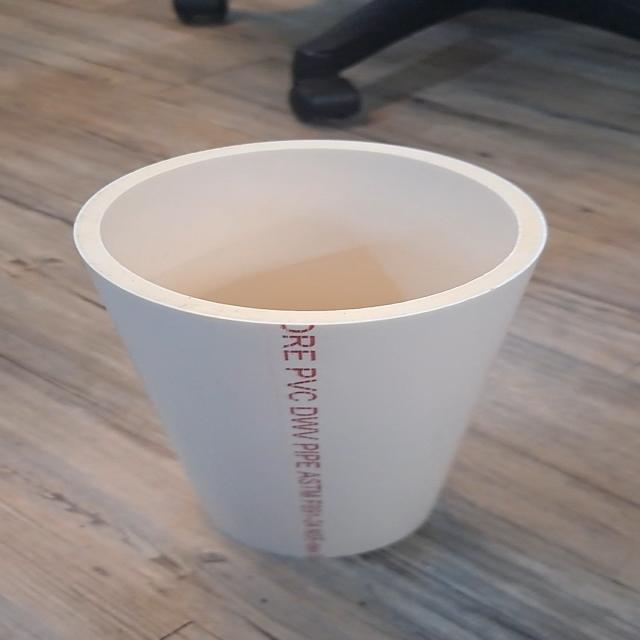CORAL: (54, 136, 601, 574)
